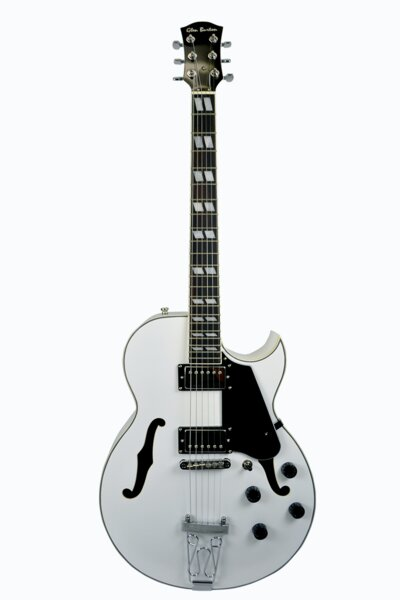ElectricGuitar: (94, 24, 332, 596)
